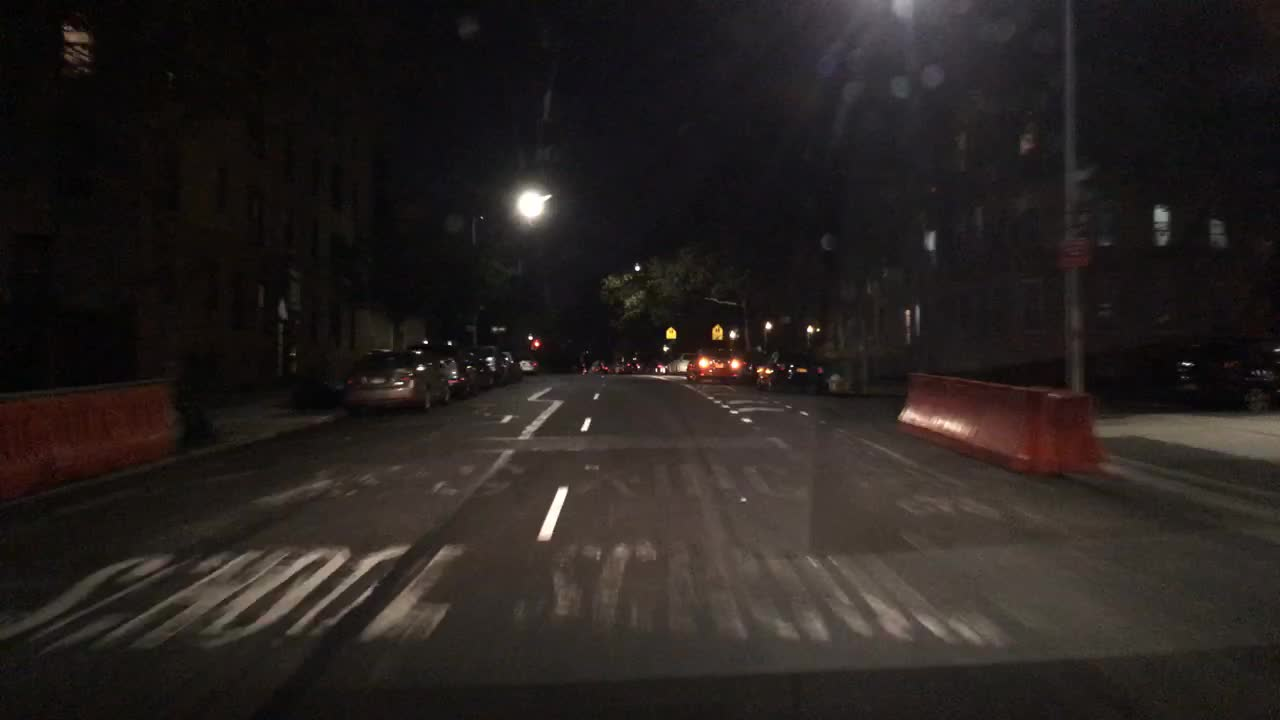car: (344, 349, 451, 412), (774, 352, 826, 389), (690, 347, 741, 382), (473, 348, 505, 383), (459, 355, 484, 383), (449, 357, 468, 392), (669, 350, 690, 375), (755, 361, 776, 382), (503, 354, 520, 375), (517, 359, 538, 375), (742, 359, 755, 383), (587, 359, 606, 375), (608, 361, 625, 375), (624, 361, 643, 373), (653, 362, 669, 375)
traffic light: (527, 337, 543, 353)
traffic sign: (1058, 239, 1091, 269), (664, 328, 680, 342), (489, 325, 508, 333), (713, 325, 722, 340)
